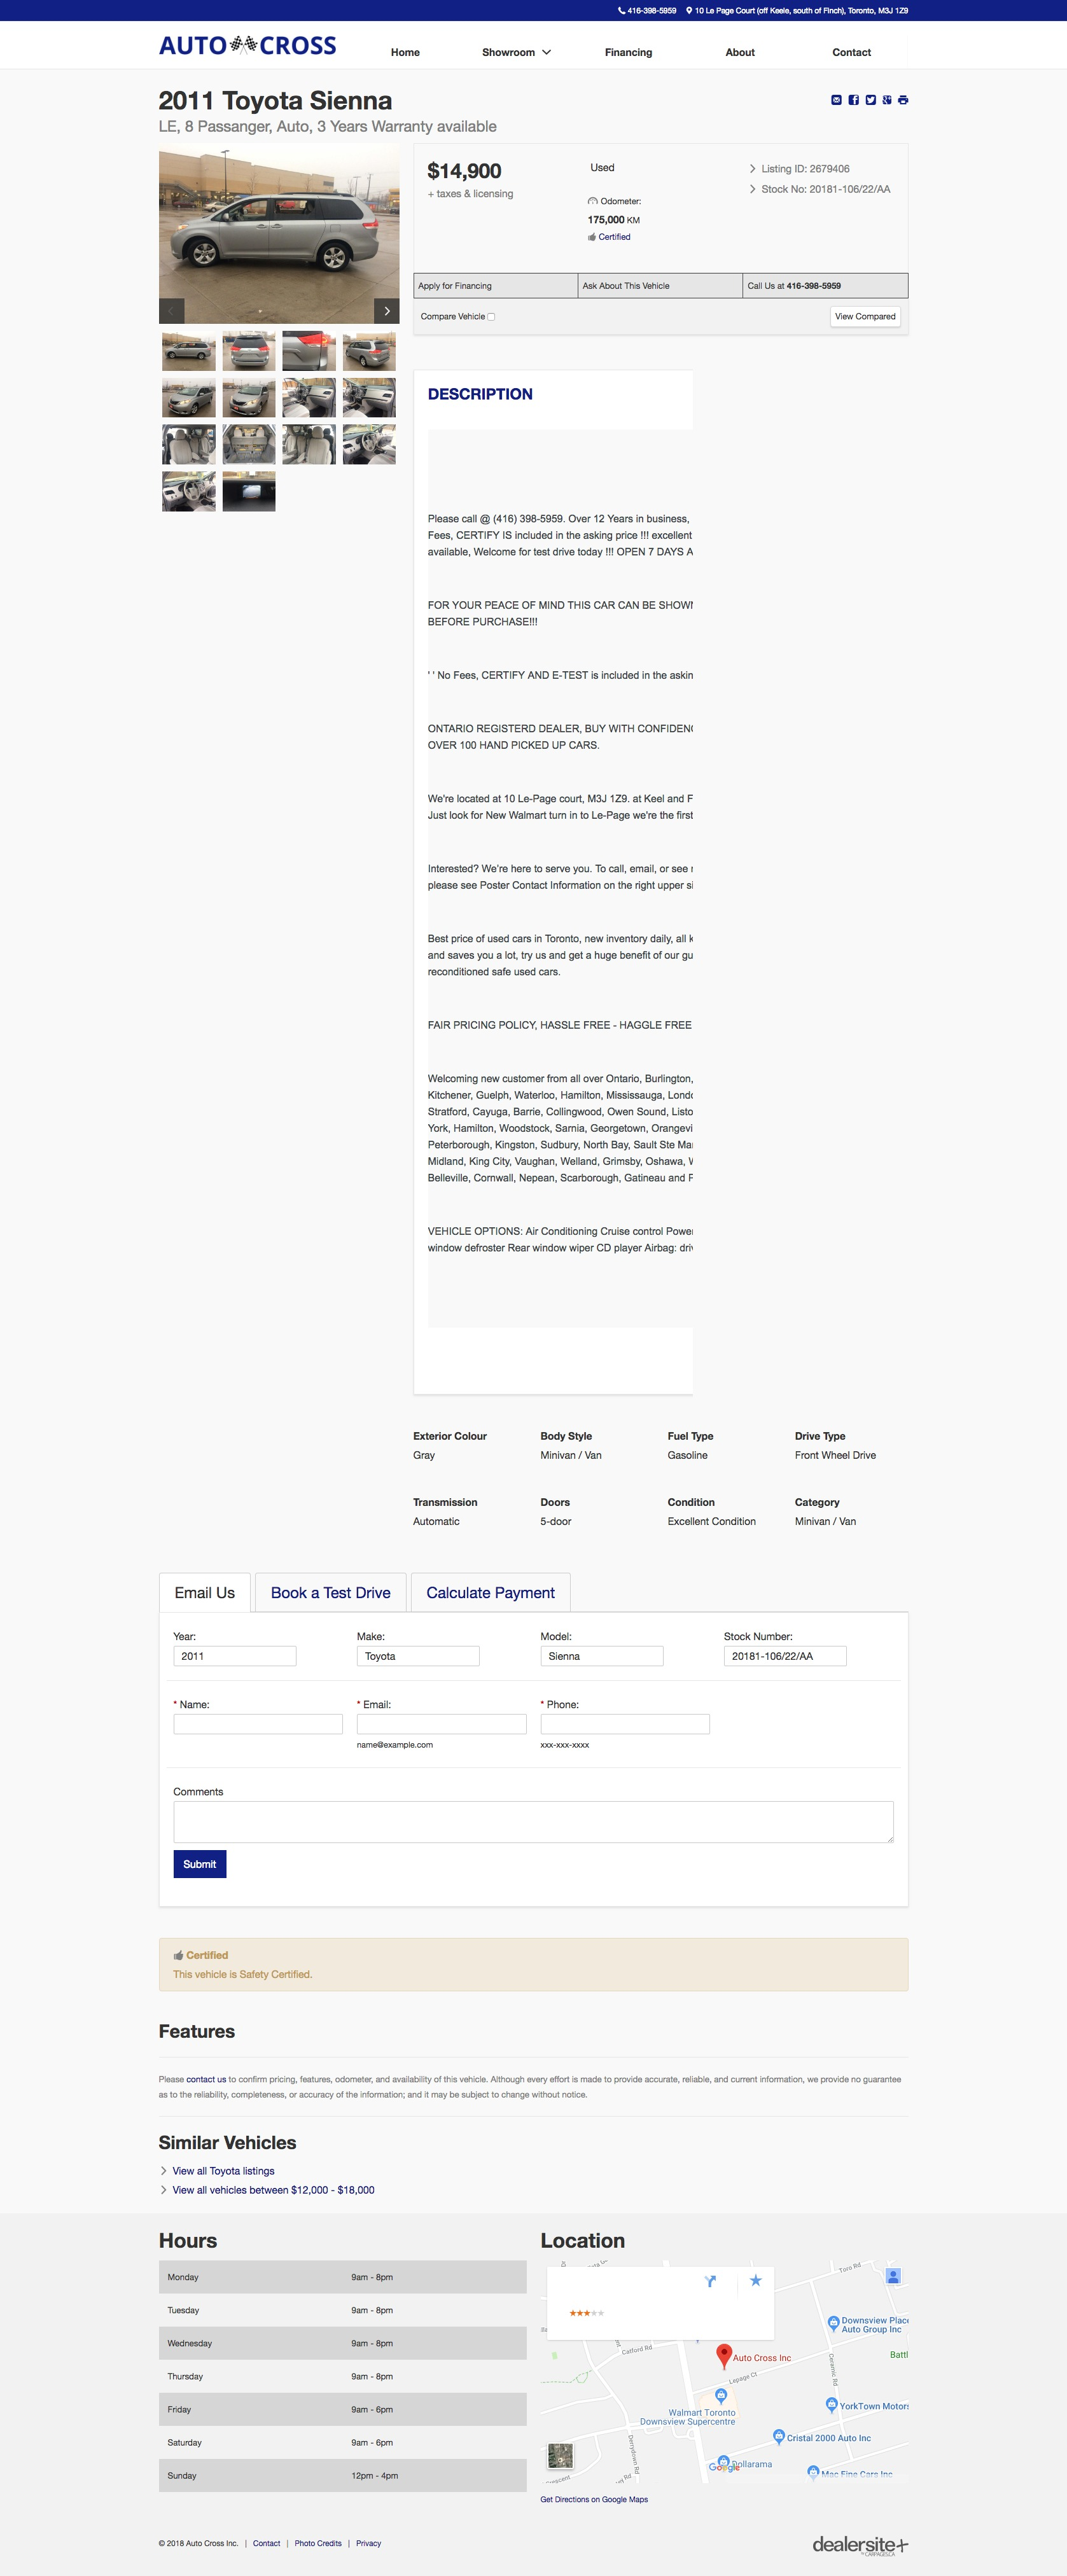car: (375, 299, 401, 325)
